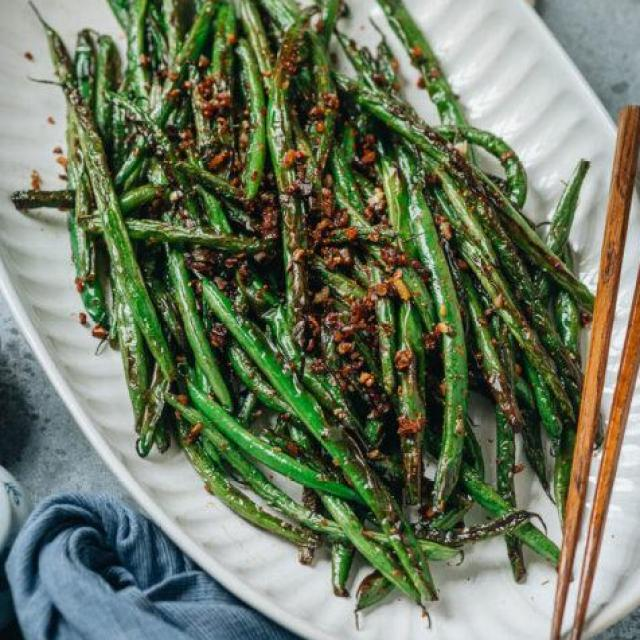Beans: (26, 0, 621, 626)
